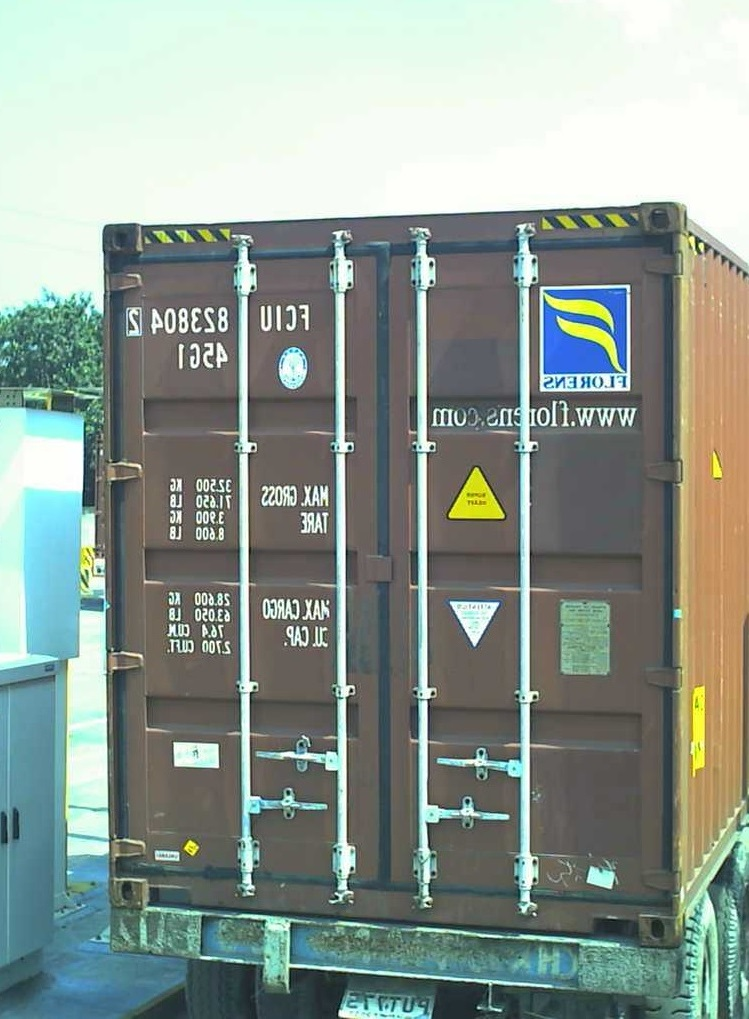container_door: (108, 198, 694, 947)
